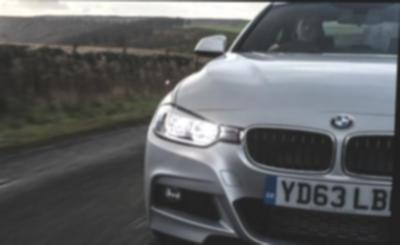License_Plate: (276, 176, 391, 214)
